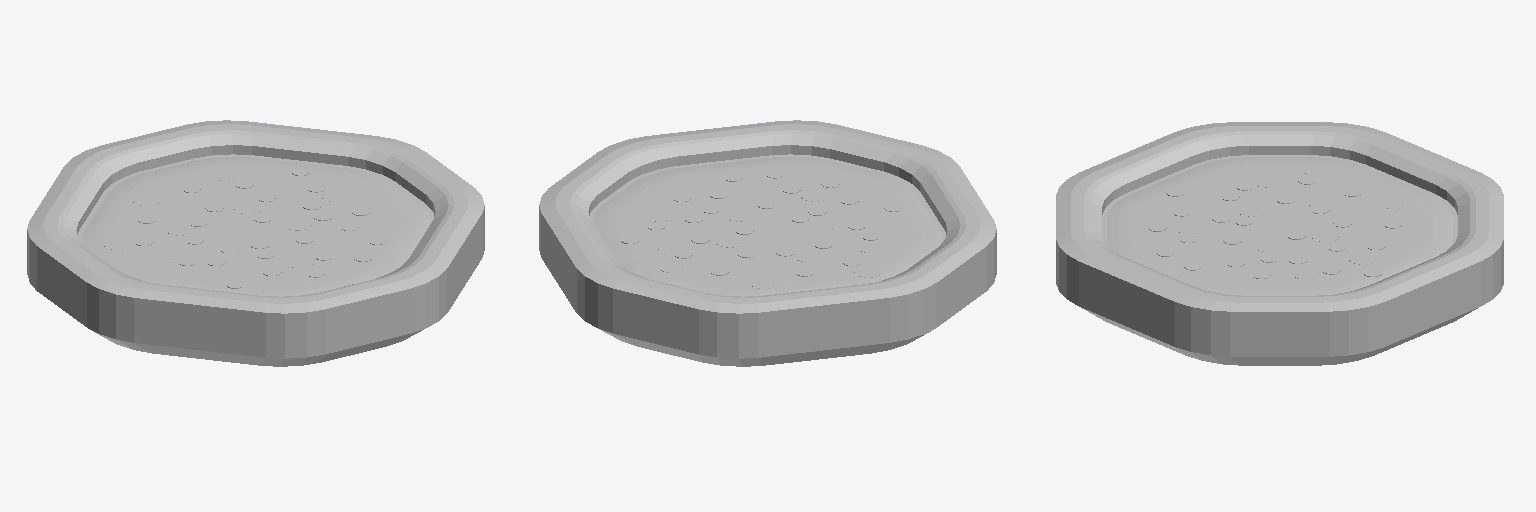
The model's file is Gourmet Pizza.obj.
The picture shows the model from 3 angles: view 1: azimuth 30°, elevation 25°; view 2: azimuth 150°, elevation 25°; view 3: azimuth 270°, elevation 25°; orthographic projection.
Visible parts, largest first — view 1: Gourmet_Pizza_Cube.005; view 2: Gourmet_Pizza_Cube.005; view 3: Gourmet_Pizza_Cube.005.
Boxes of the visible parts, box(x1,y1,x2,y2) form: Gourmet_Pizza_Cube.005: box(27, 120, 484, 366); Gourmet_Pizza_Cube.005: box(539, 120, 996, 366); Gourmet_Pizza_Cube.005: box(1056, 122, 1503, 365).
Size of the model in its own units: 2 by 0.4132 by 2.